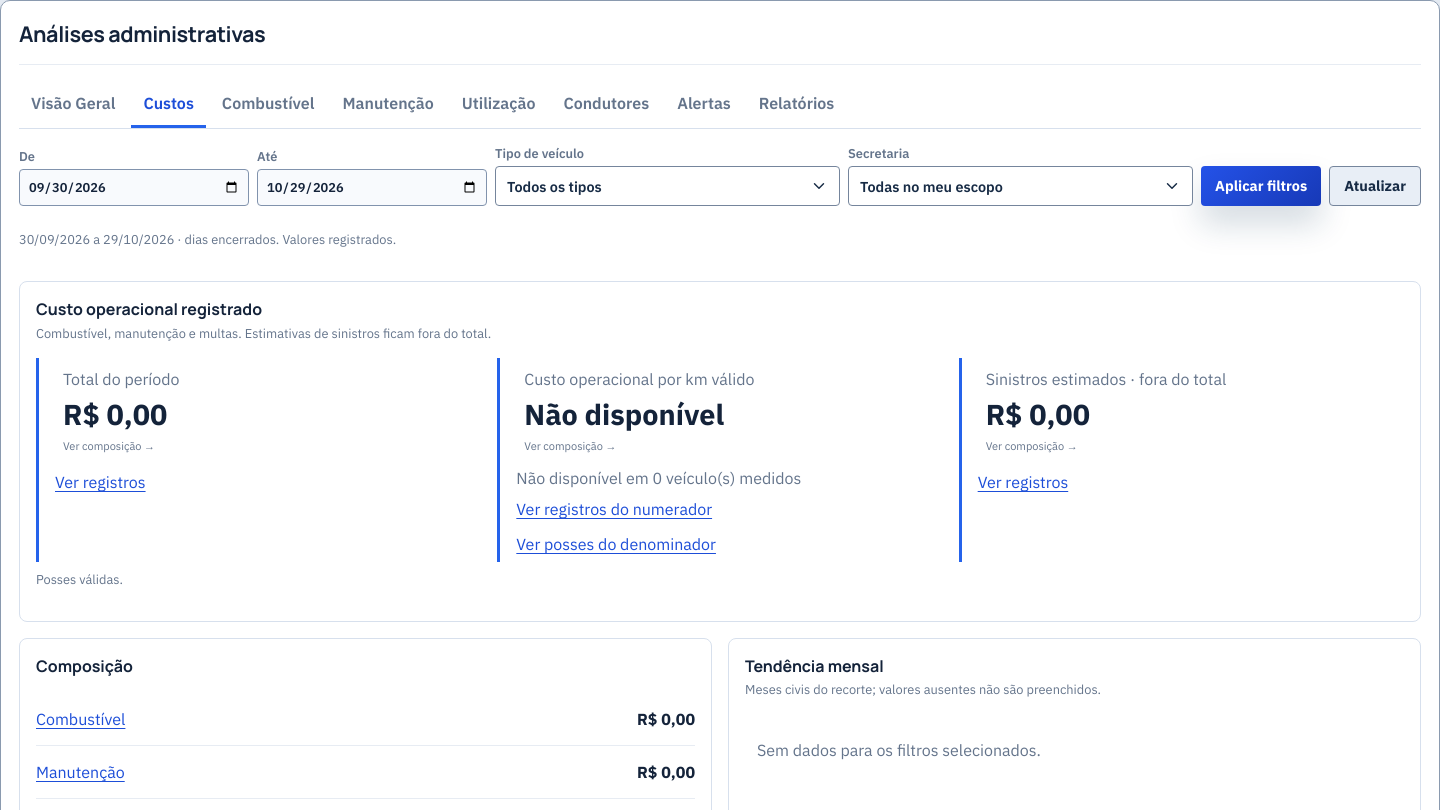
it: Analytics — fundação V1 › conserva o recorte de Custos ao sair e retornar à aba
This screenshot has width=1440, height=810.
Type "2026-09-01" into the date field labelled "De".
click(134, 188); type("2026-09-01")  # box x1=19 y1=169 x2=249 y2=206
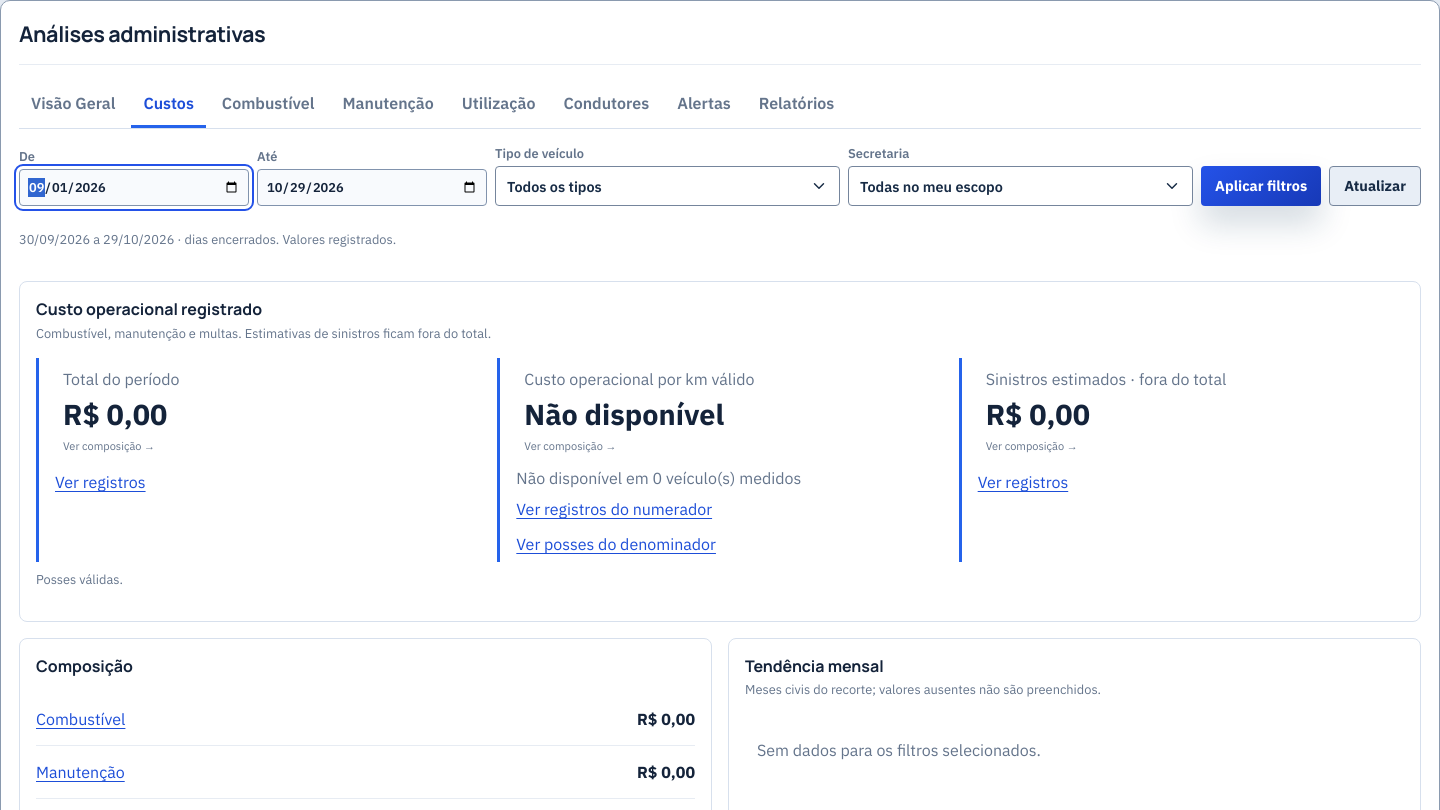
Type "2026-09-30" into the date field labelled "Até".
click(372, 188); type("2026-09-30")  # box x1=257 y1=169 x2=487 y2=206
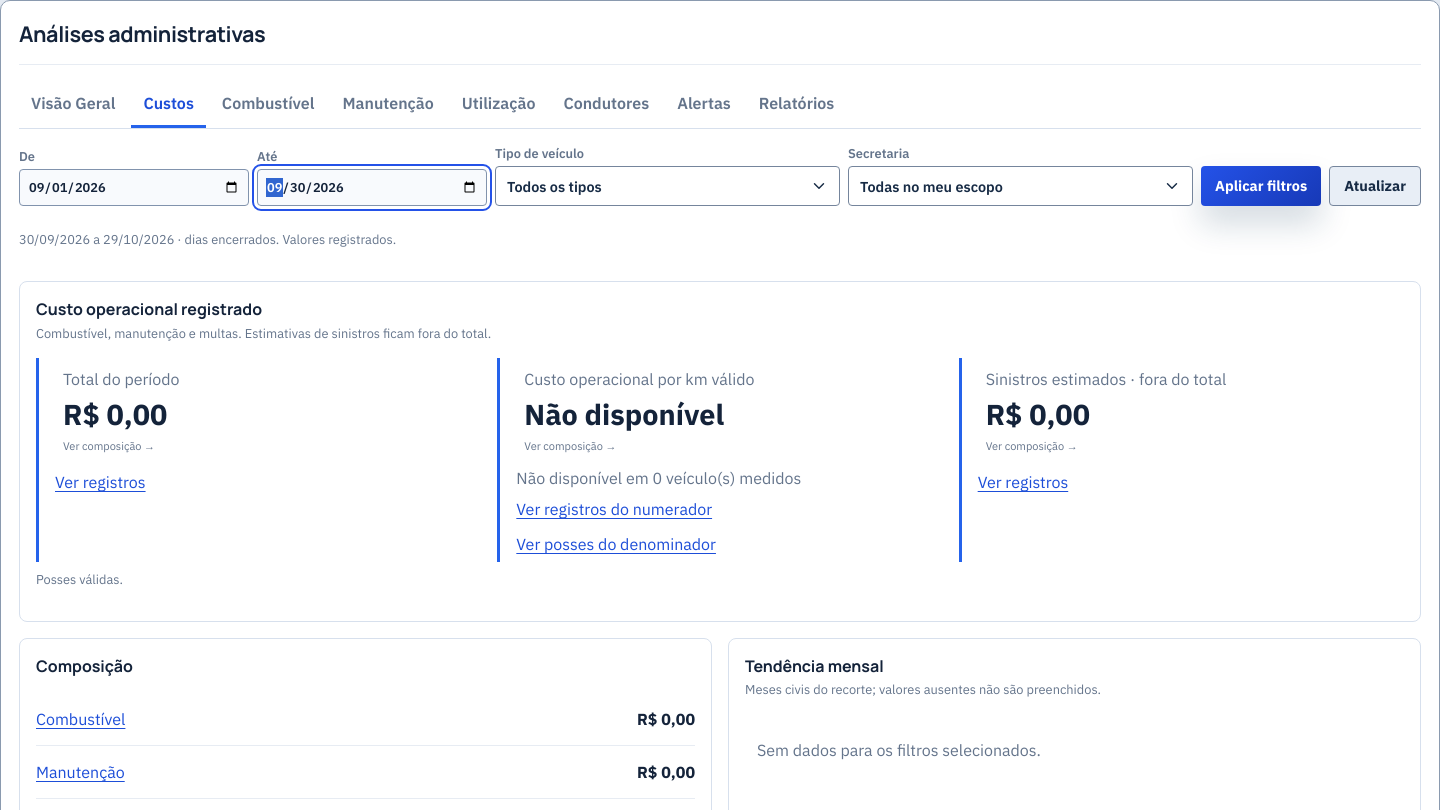
Click the button "Aplicar filtros".
click(1261, 186)  # box x1=1201 y1=166 x2=1321 y2=206
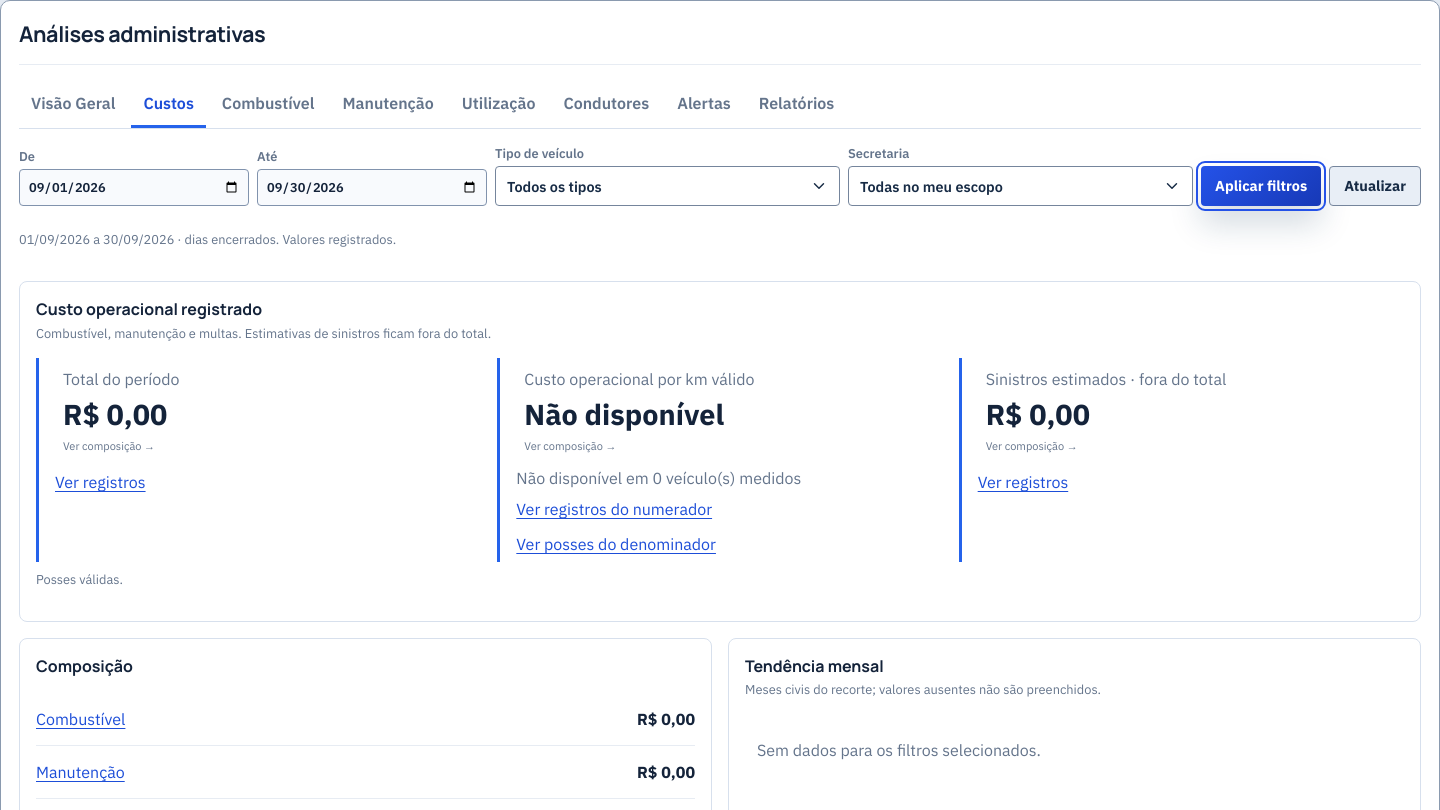
Click the button "Relatórios".
click(797, 104)  # box x1=747 y1=81 x2=846 y2=128
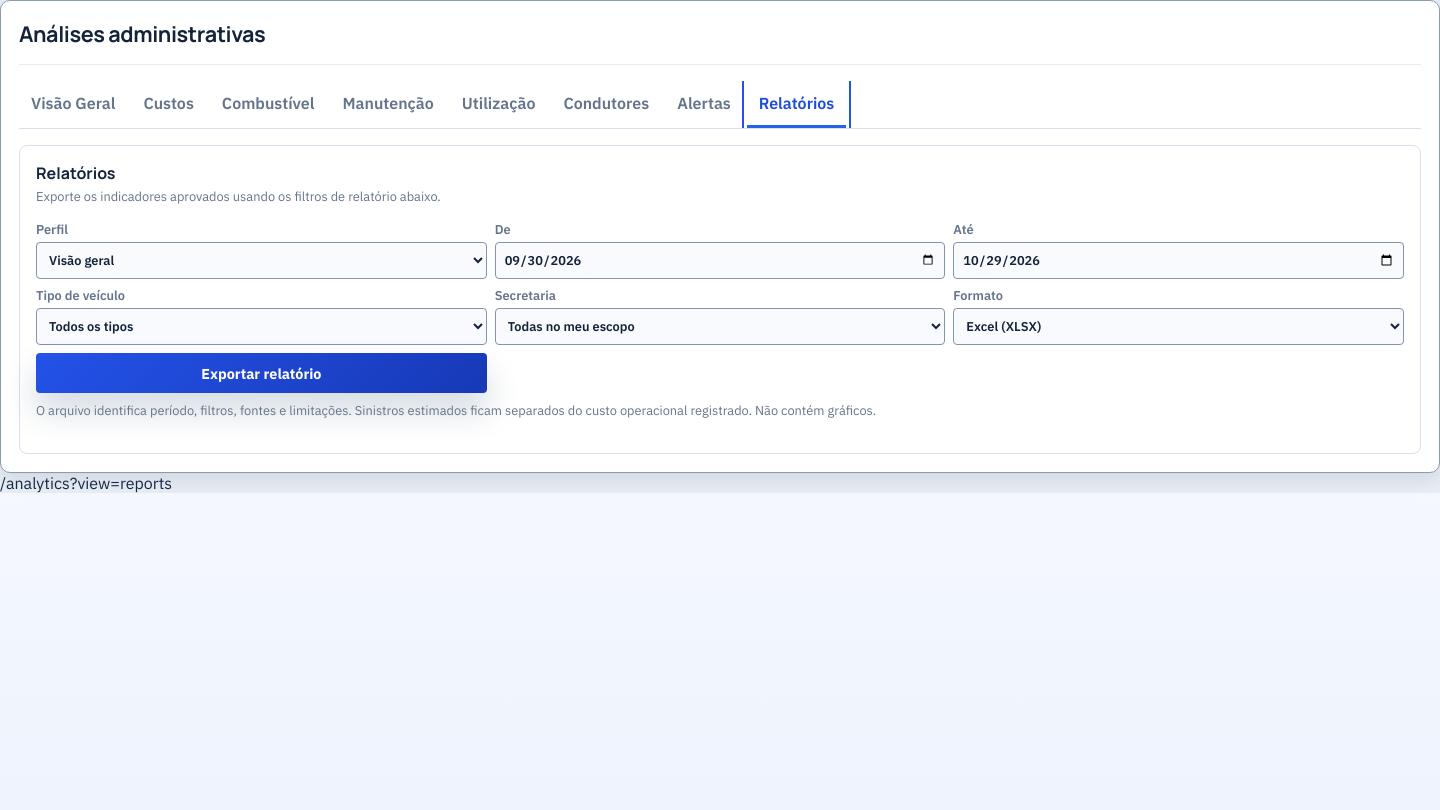
Click the button "Custos".
click(169, 104)  # box x1=131 y1=81 x2=206 y2=128
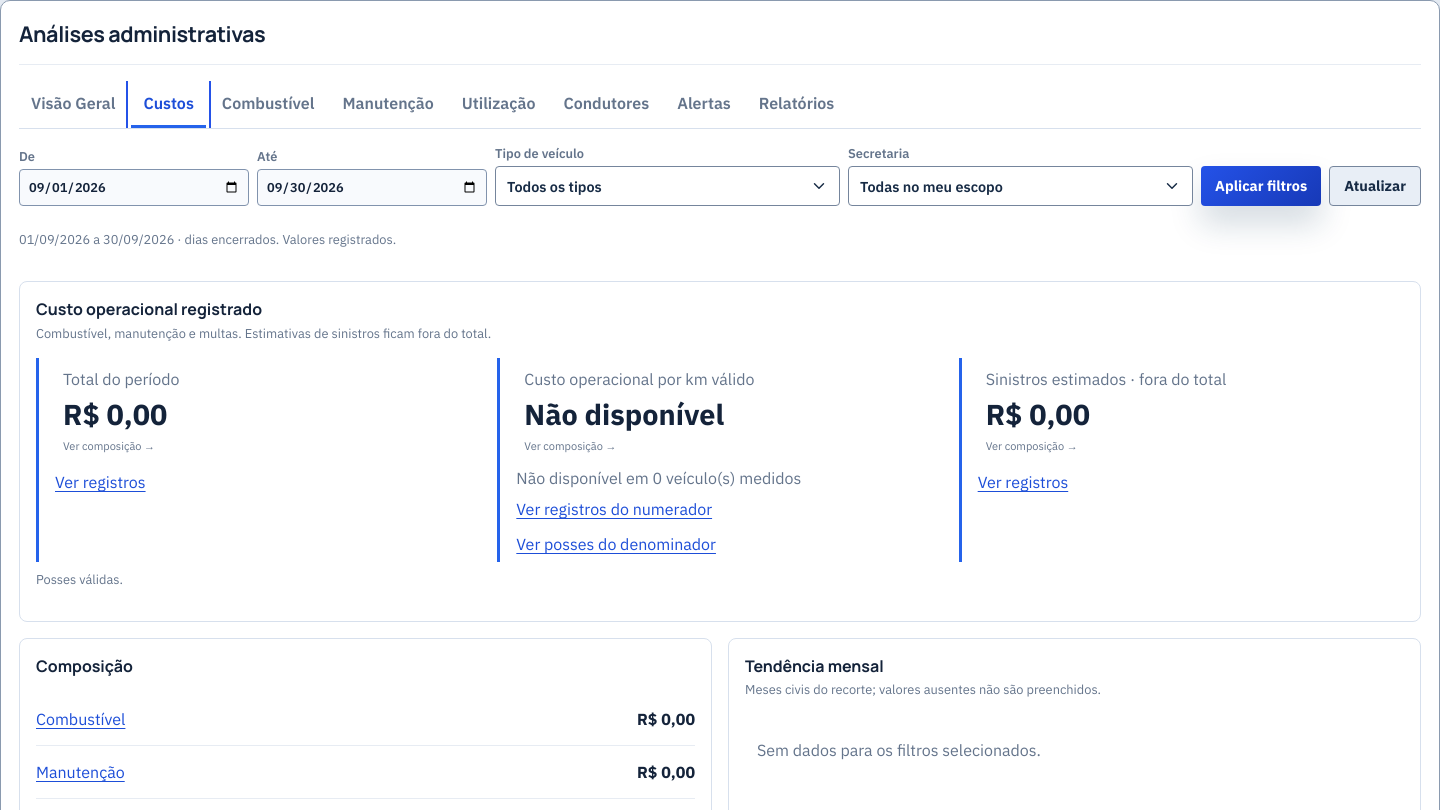
expect the date field labelled "De" holds "2026-09-01": met, box x1=19 y1=169 x2=249 y2=206
expect the date field labelled "Até" holds "2026-09-30": met, box x1=257 y1=169 x2=487 y2=206
